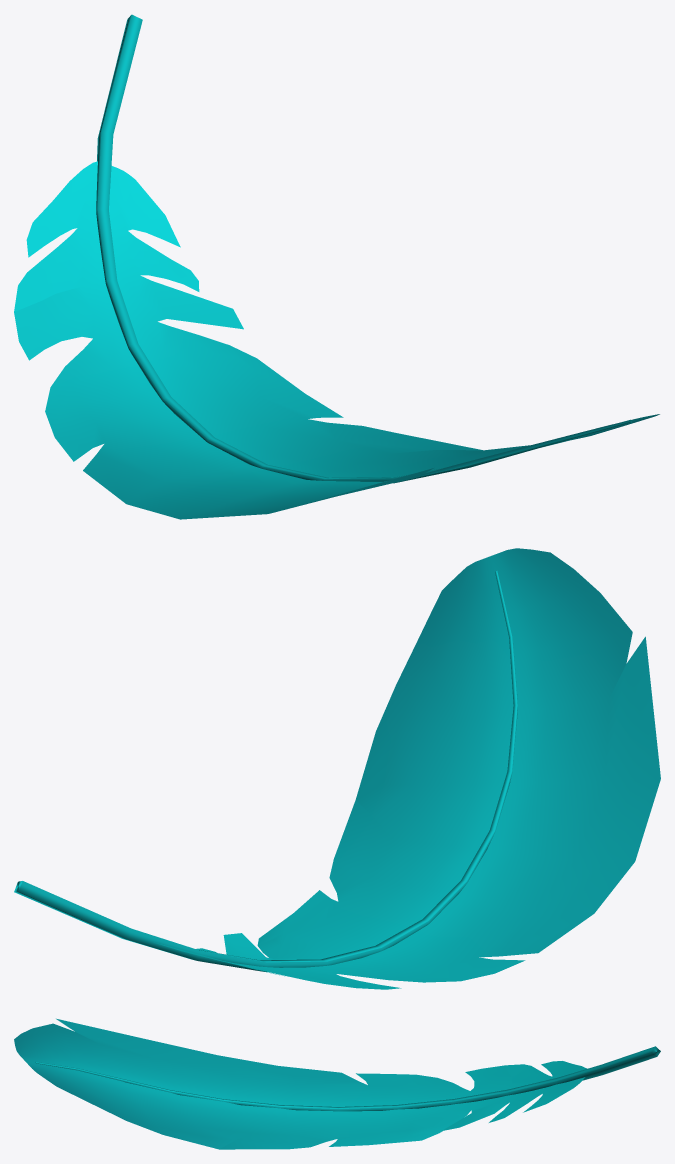
File: animals-animalparts-whitefeather_v2.fbx
The picture shows the model from 3 angles, top to bottom: view 1: azimuth 30°, elevation 25°; view 2: azimuth 150°, elevation 25°; view 3: azimuth 270°, elevation 25°; orthographic projection. The views are drawn at different scales.
Parts seen in each view (by area): view 1: WhiteFeather_v2; view 2: WhiteFeather_v2; view 3: WhiteFeather_v2.
Part boxes in pixels (x1=…): WhiteFeather_v2: x1=14, y1=14, x2=659, y2=519; WhiteFeather_v2: x1=14, y1=548, x2=660, y2=989; WhiteFeather_v2: x1=14, y1=1018, x2=660, y2=1149.
Bounding box in the file's own units: 0.3 × 0.1621 × 0.792.
